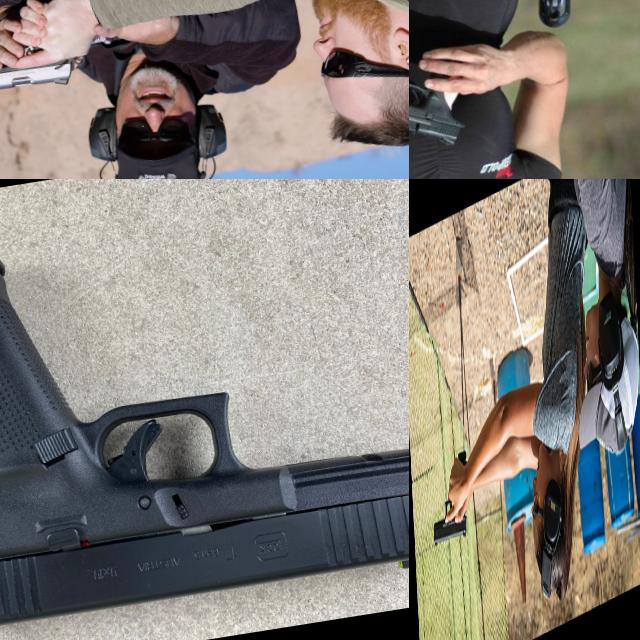handgun: (0, 179, 409, 640), (0, 21, 91, 102), (409, 58, 475, 162), (428, 442, 471, 556)
